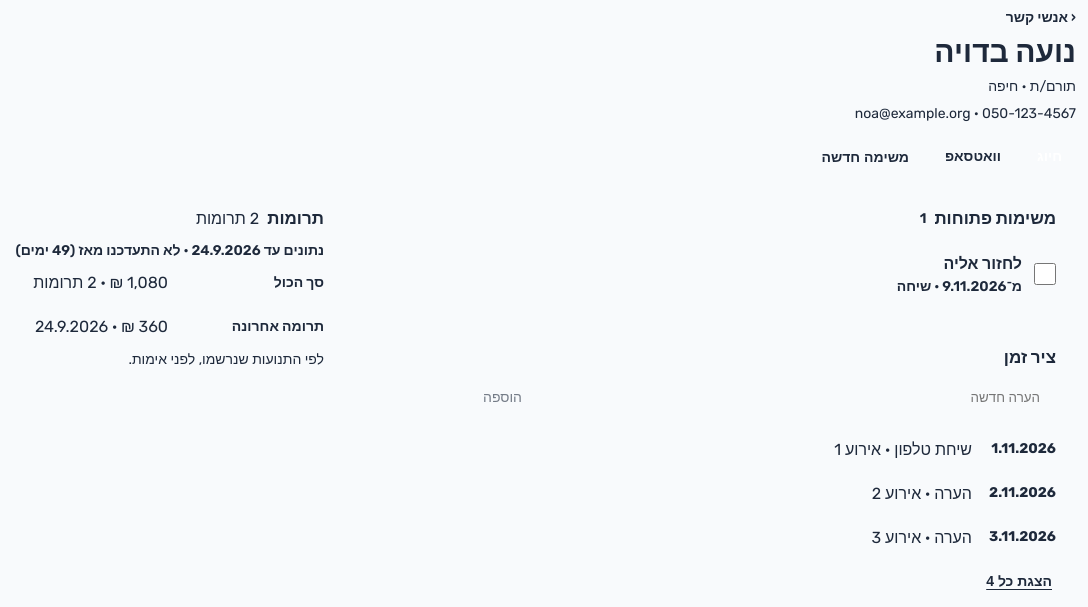
Test: MgmtPersonPage › keeps the note and says so when updating 'last contact' is refused
Expected: the text "שיחת טלפון · אירוע 1" is shown, left=834, top=440, right=972, bottom=459
Type "דיברנו" into the field labelled "הערה חדשה".
click(800, 397); type("דיברנו")  # box left=544, top=378, right=1056, bottom=416
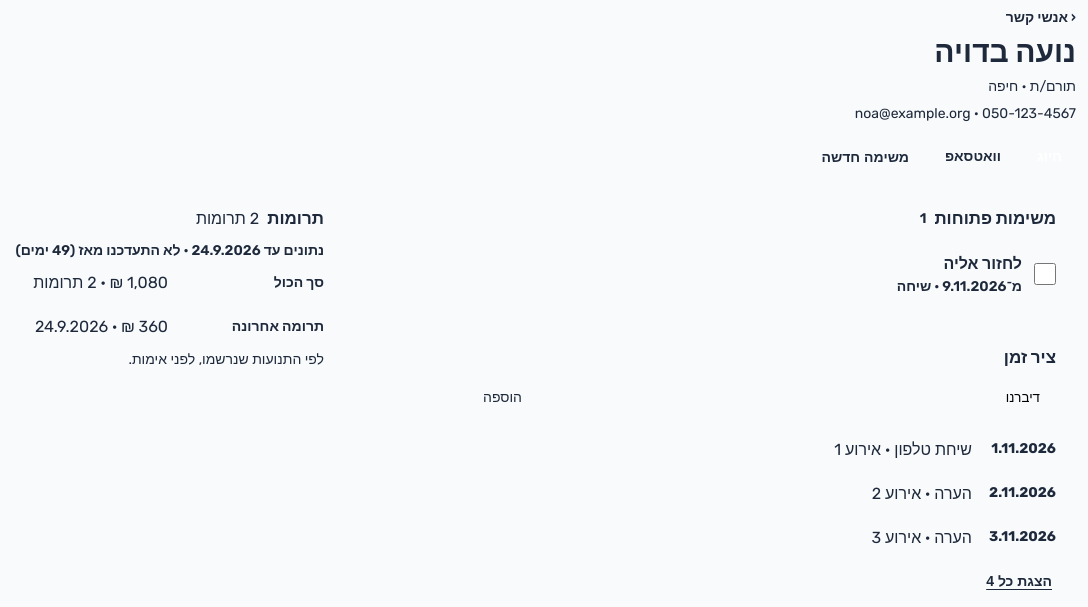
Click the button "הוספה".
click(502, 397)  # box left=469, top=380, right=536, bottom=414
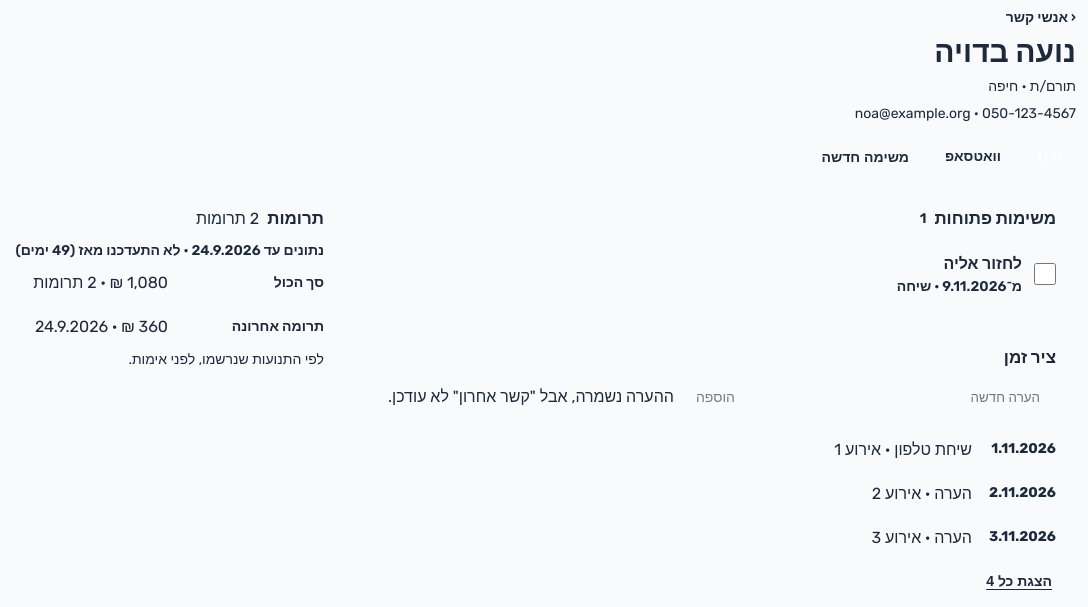
Expected: the text "ההערה נשמרה, אבל \"קשר אחרון\" לא עודכן." is shown, left=388, top=385, right=674, bottom=409
